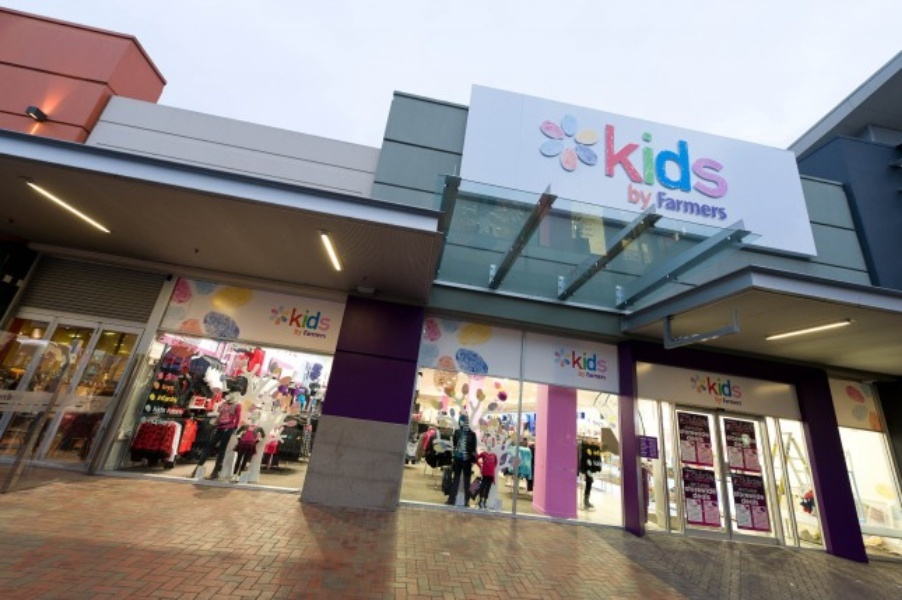text: (609, 121, 624, 201), (625, 121, 640, 201), (641, 121, 656, 201), (657, 121, 672, 201), (673, 121, 688, 201), (689, 121, 704, 201), (705, 121, 720, 201), (673, 189, 688, 221), (689, 189, 704, 221), (705, 189, 720, 221), (658, 189, 672, 221), (305, 305, 320, 333), (626, 181, 640, 210), (603, 121, 608, 201), (721, 121, 726, 201), (593, 349, 609, 374), (577, 349, 592, 374), (705, 375, 720, 399), (721, 375, 736, 399), (293, 305, 304, 333), (321, 305, 332, 333), (641, 181, 651, 210), (721, 189, 729, 221), (689, 413, 704, 427), (721, 394, 736, 407), (578, 370, 592, 382), (593, 370, 607, 382), (305, 328, 320, 339), (737, 433, 752, 444), (689, 434, 705, 444), (737, 490, 752, 500), (689, 486, 704, 496), (689, 424, 704, 433), (740, 497, 752, 508), (691, 491, 704, 501), (705, 486, 718, 496), (679, 413, 688, 427), (571, 349, 576, 374), (725, 433, 736, 444), (753, 490, 765, 500), (737, 441, 751, 449), (294, 328, 304, 339), (689, 430, 704, 437), (714, 394, 720, 407), (737, 394, 743, 407), (753, 497, 760, 508), (737, 375, 740, 399), (679, 430, 688, 437), (705, 491, 711, 501), (321, 328, 326, 339), (753, 433, 757, 444), (732, 490, 736, 500), (684, 486, 688, 496), (684, 424, 688, 433), (705, 430, 710, 437), (705, 413, 707, 427), (733, 441, 736, 449), (686, 434, 688, 444)
